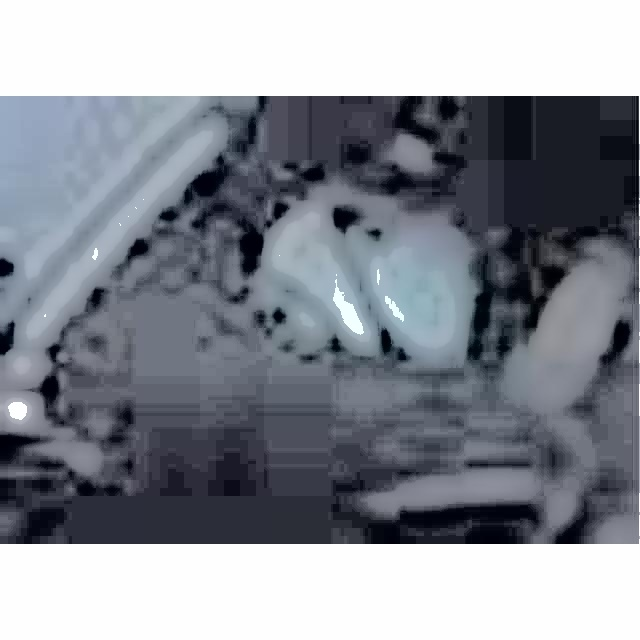pakai: (258, 179, 507, 412)
